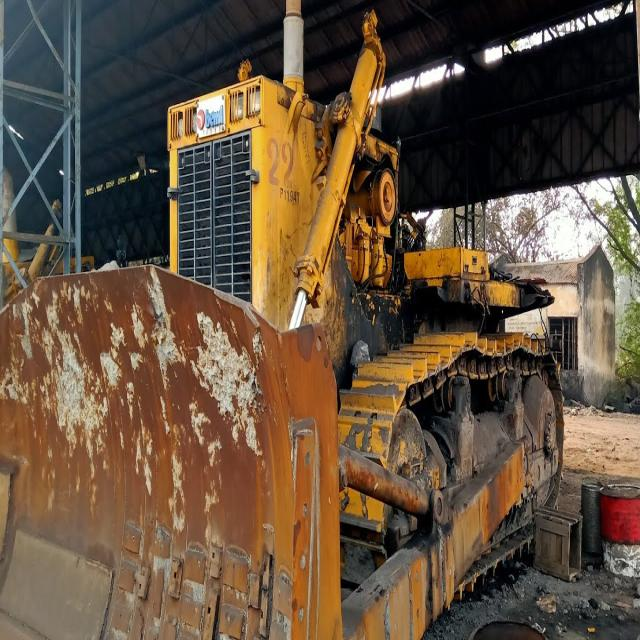buldozerpayloadergrader: (3, 5, 567, 640)
